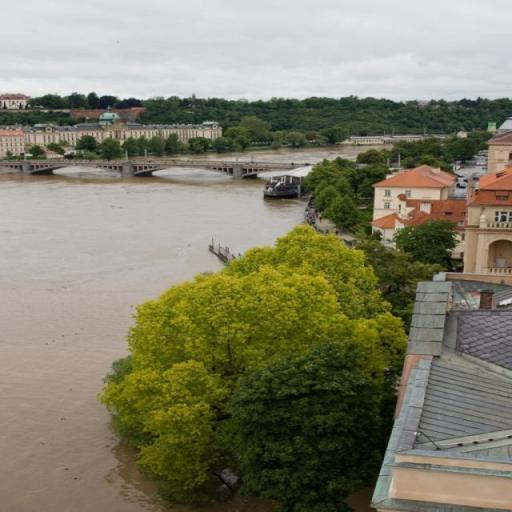flood: (0, 167, 307, 512), (150, 145, 392, 158), (343, 486, 377, 512)
house: (373, 278, 512, 512), (0, 119, 222, 154), (371, 165, 458, 239), (468, 170, 512, 279)
